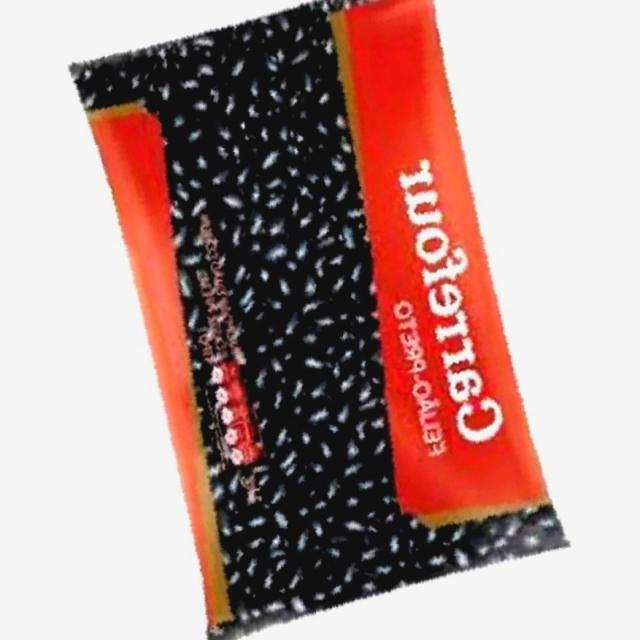beans package: (72, 0, 566, 636)
